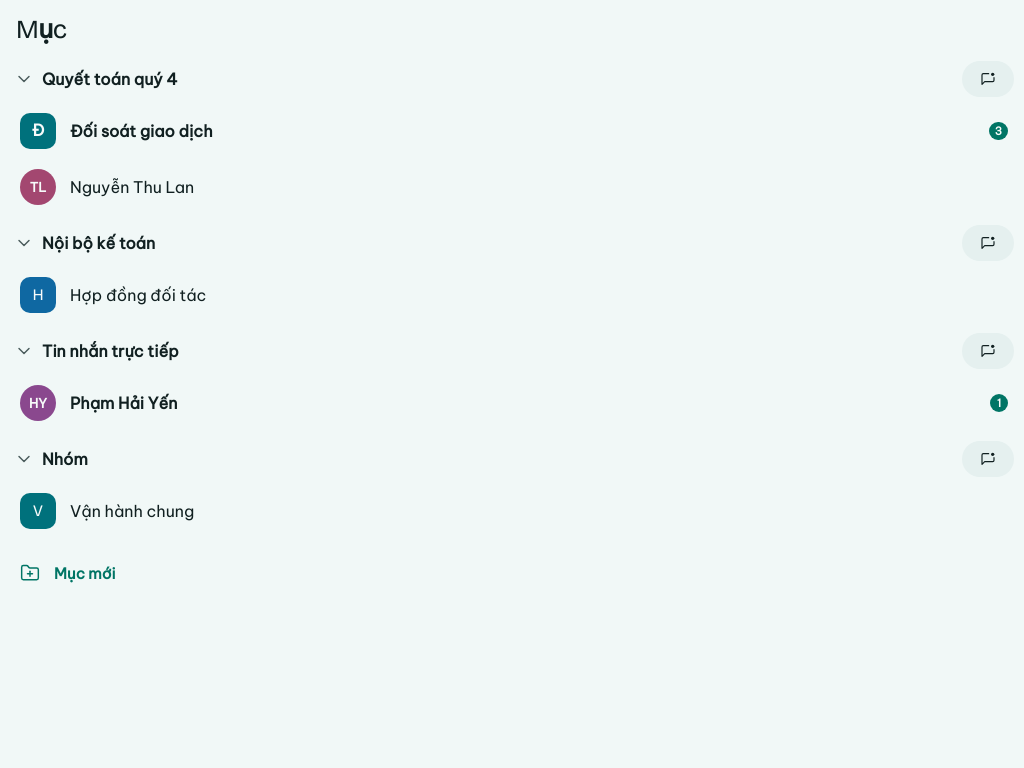
the menu of a section on a phone › opens from the keyboard too, and a plain tap on the header still folds it
expect the list named "Quyết toán quý 4" is shown: met, box x1=0 y1=103 x2=1023 y2=215
Press F10 in the button "Nội bộ kế toán", box x1=6 y1=221 x2=958 y2=265
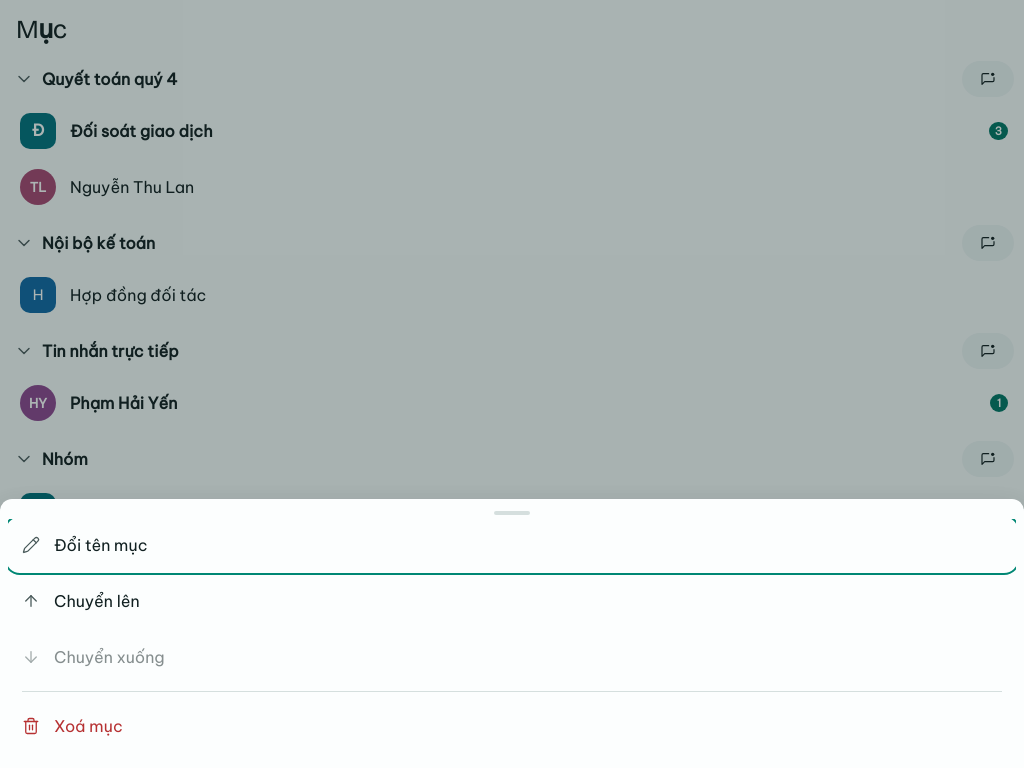
expect the dialog named "Tuỳ chọn cho mục Nội bộ kế toán" is shown: met, box x1=0 y1=499 x2=1023 y2=767
Press Escape
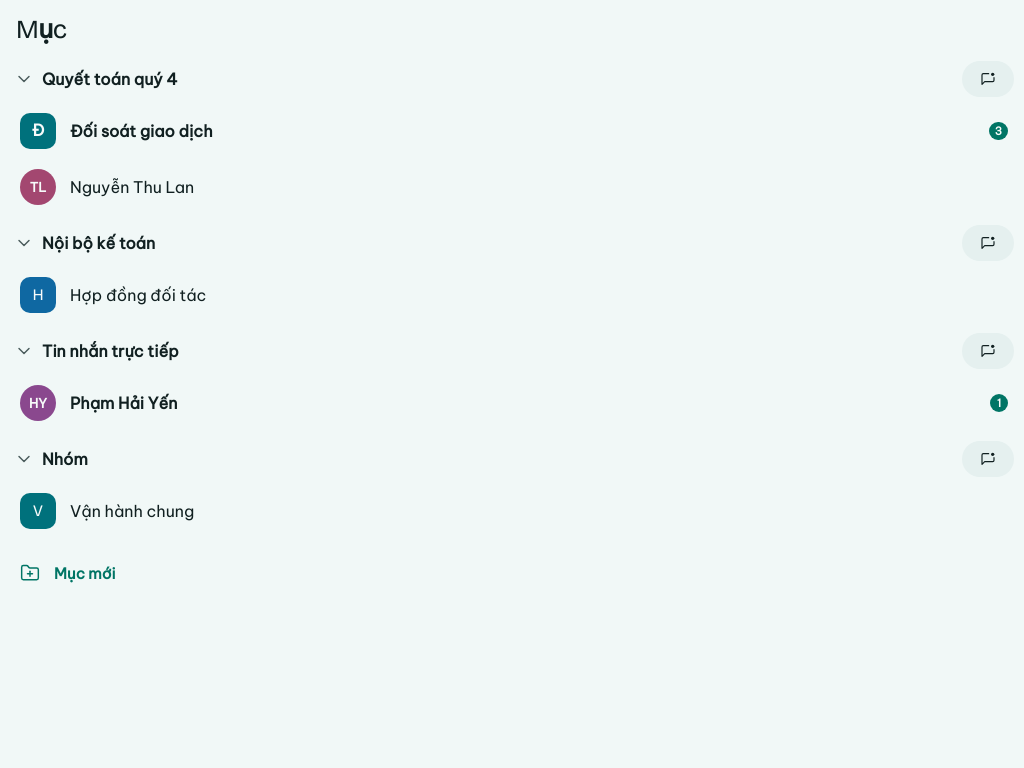
expect the dialog is gone: met
Click the button "Nội bộ kế toán". click: (99, 243)
box: x1=6 y1=221 x2=958 y2=265
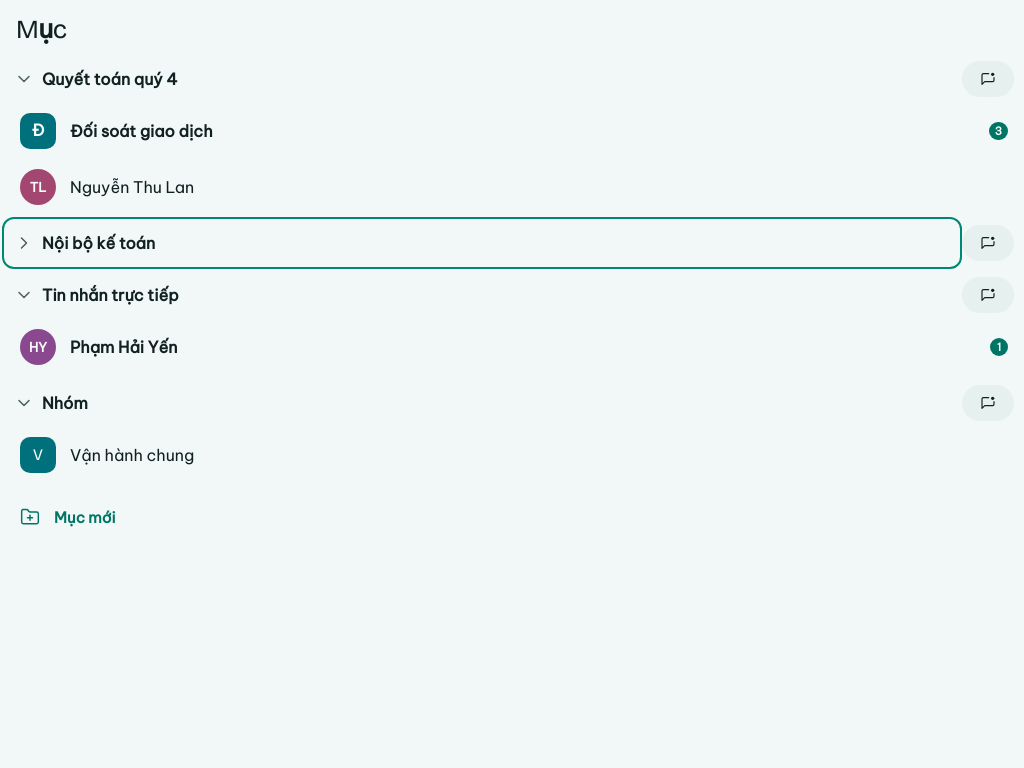
expect the button "Nội bộ kế toán" is collapsed: met, box x1=6 y1=221 x2=958 y2=265
